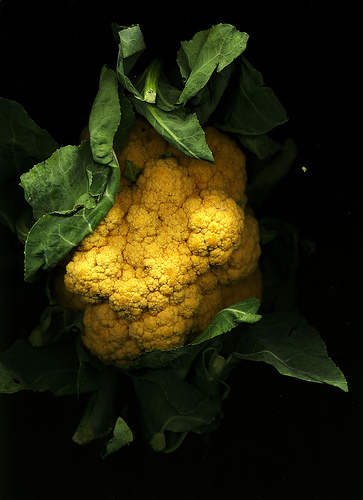cauliflower: (61, 128, 265, 371)
